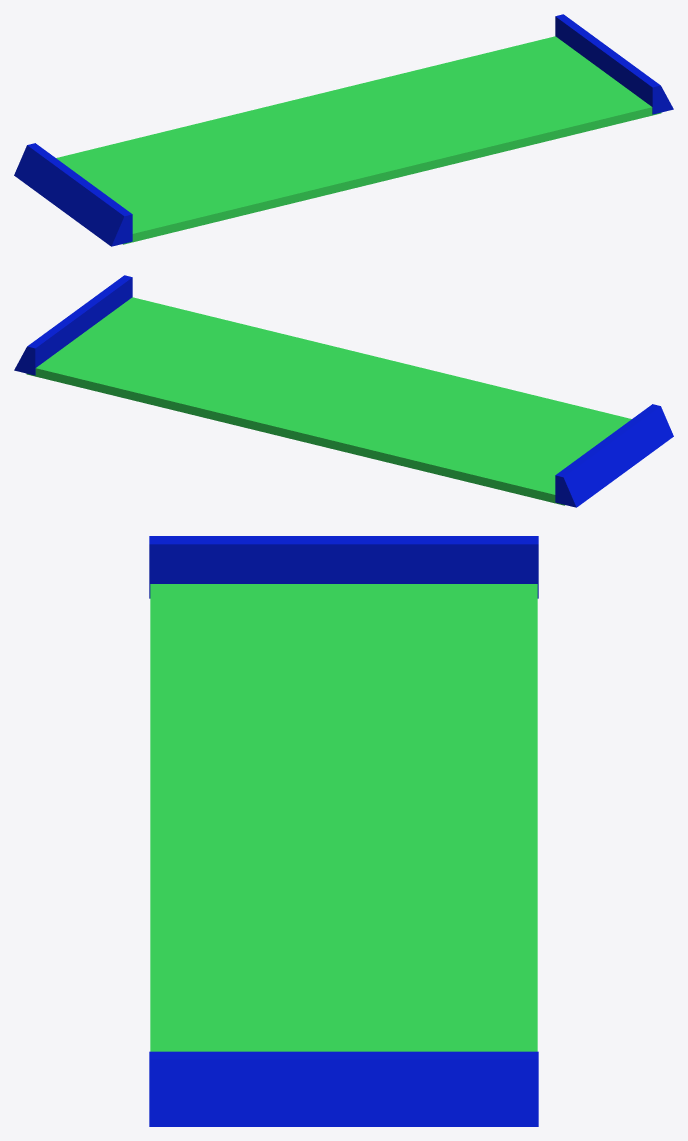
File: Road.fbx
3 views of the same model, one above another, from view 1: azimuth 30°, elevation 25°; view 2: azimuth 150°, elevation 25°; view 3: azimuth 270°, elevation 25° (orthographic). The views are drawn at different scales.
Parts seen in each view (by area): view 1: Road; view 2: Road; view 3: Road.
Part boxes in pixels (left/top/right/bottom): Road: left=14, top=14, right=673, bottom=246; Road: left=14, top=275, right=673, bottom=507; Road: left=149, top=536, right=538, bottom=1126.
Size of the model in its own units: 1 by 0.1612 by 3.35.
